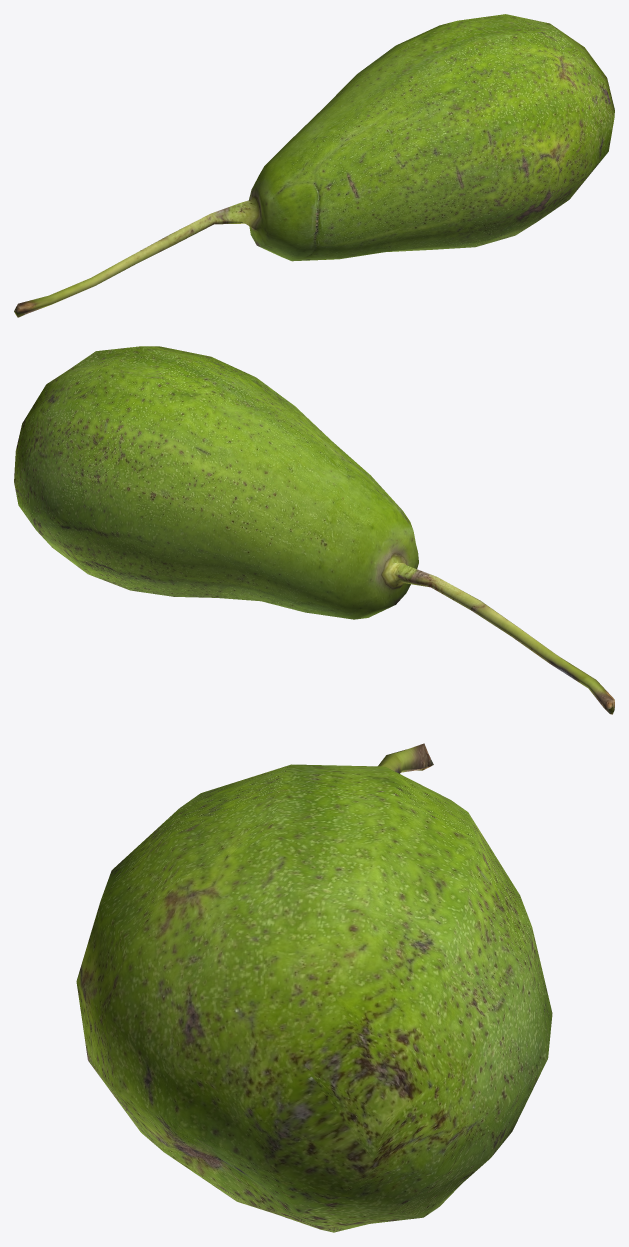
File: A11_Papaya_low.fbx
3 views of the same model, one above another, from view 1: azimuth 30°, elevation 25°; view 2: azimuth 150°, elevation 25°; view 3: azimuth 270°, elevation 25° (orthographic). The views are drawn at different scales.
Parts seen in each view (by area): view 1: A11_Papaya_low; view 2: A11_Papaya_low; view 3: A11_Papaya_low.
Boxes of the visible parts, x1,y1,x2,y2 form: A11_Papaya_low: (14,14,614,317); A11_Papaya_low: (14,346,614,714); A11_Papaya_low: (76,743,552,1232).
Size of the model in its own units: 23.84 by 8.71 by 8.17.
Materials: 1 (1 with a texture image).
